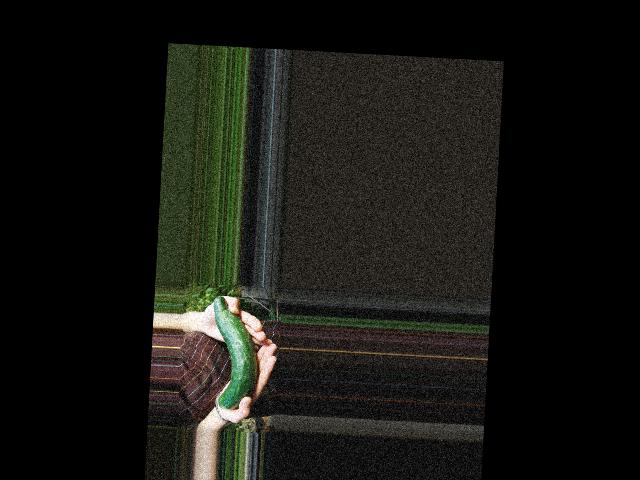cucumber: (208, 296, 261, 411)
